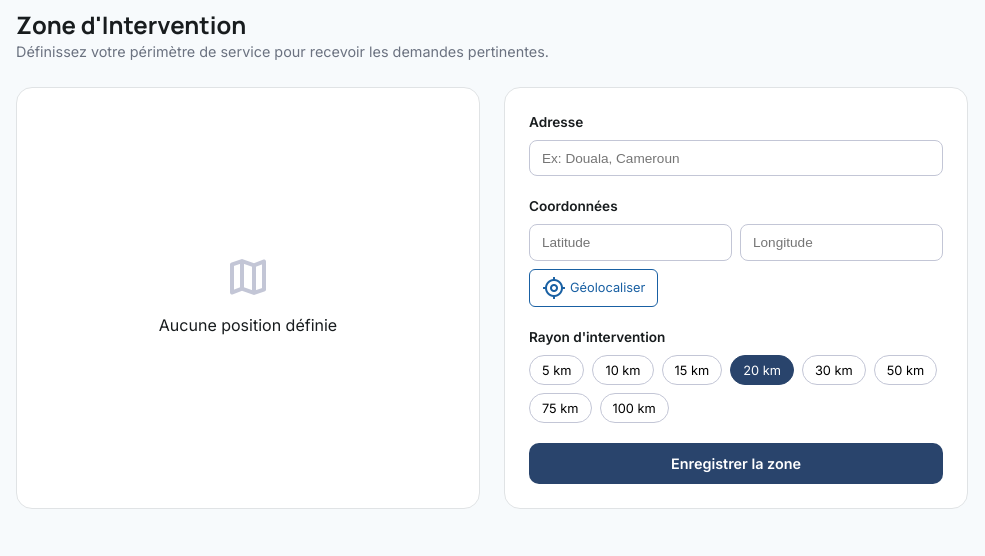
it: ZoneIntervention › refuse d'enregistrer sans position
Click the button "Enregistrer la zone": (736, 464) [529, 443, 943, 484]
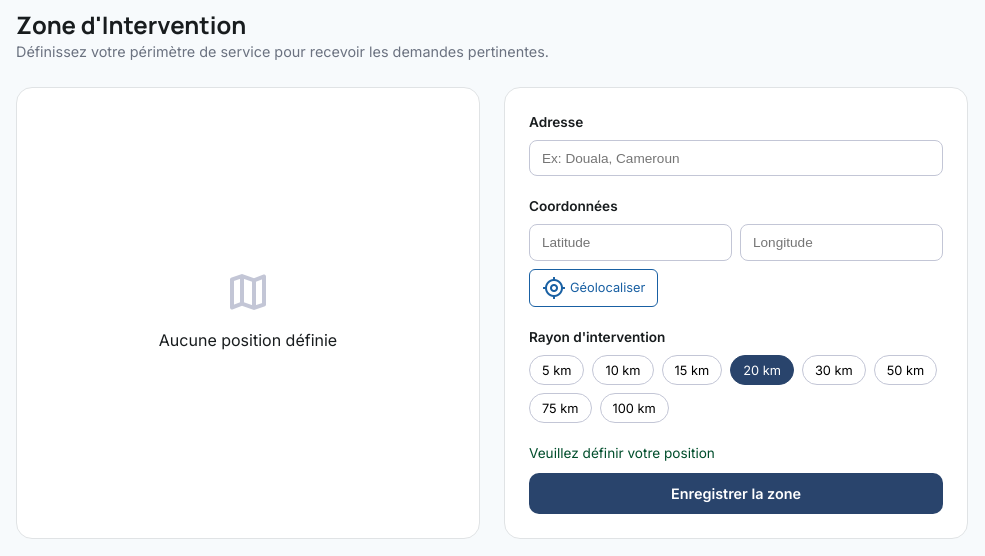
Expected: the text "Veuillez définir votre position" is shown, [529, 445, 715, 461]
